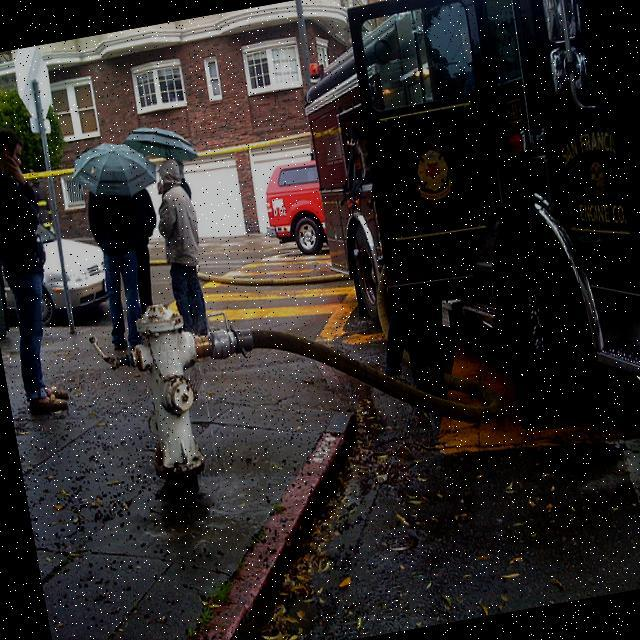fire_hydrant: (105, 291, 262, 504)
